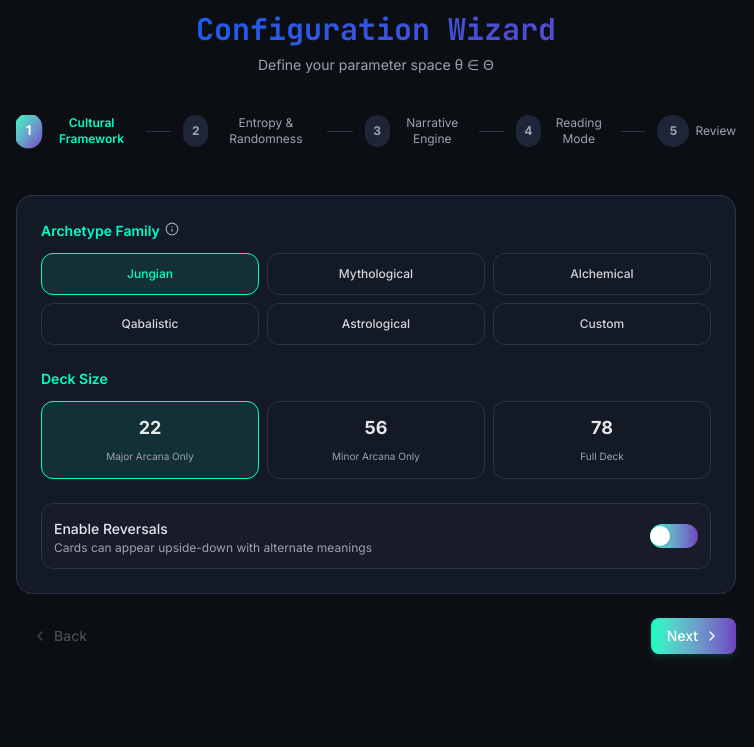
Test: ConfigurePage — Reading Mode Selection › review step shows Unified Symbolic badge when symbolic selected
Click the button "4 Reading Mode" at (583, 131), box [516,115,649,147]
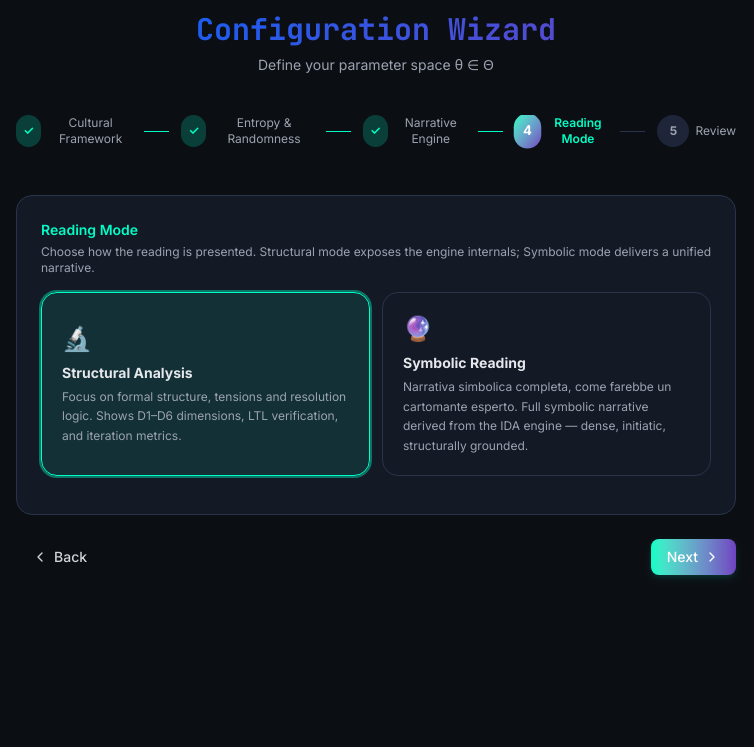
Click the button "Symbolic Reading" at (546, 384), box [382,292,711,476]
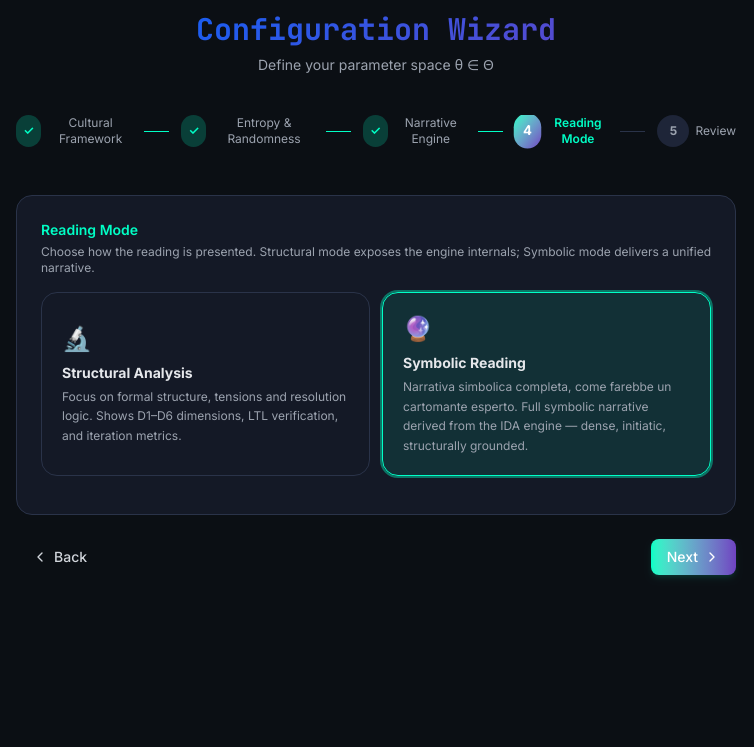
Click the button "5 Review" at (697, 131), box [657,115,736,147]
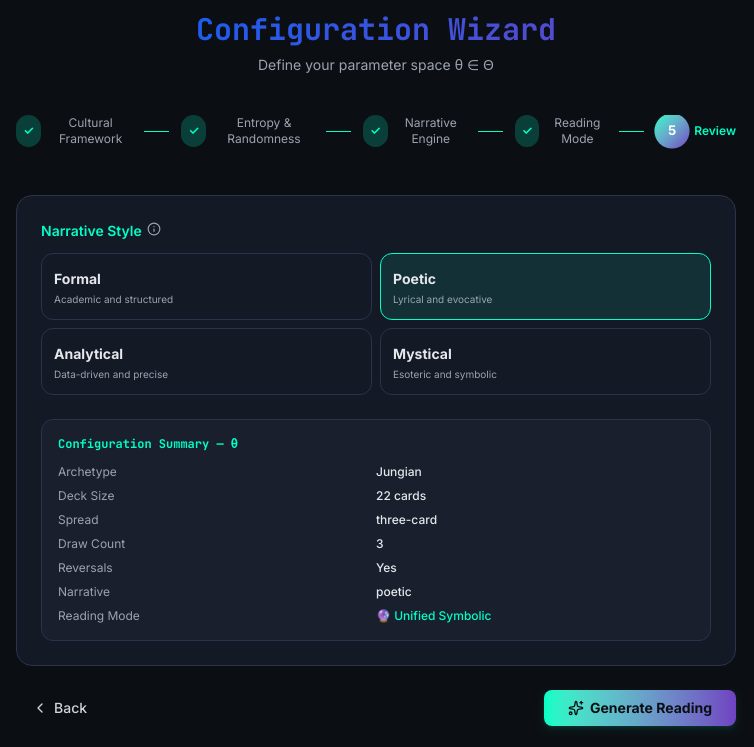
Expected: the text "🔮 Unified Symbolic" is shown, [376,608,492,623]
